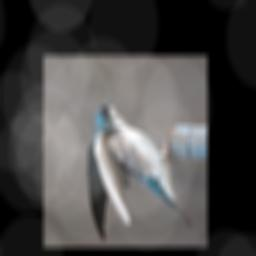Swallow: (81, 97, 194, 243)
